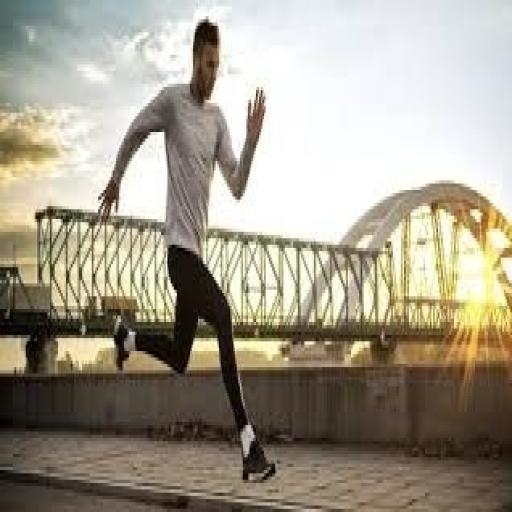running: (95, 13, 279, 489)
